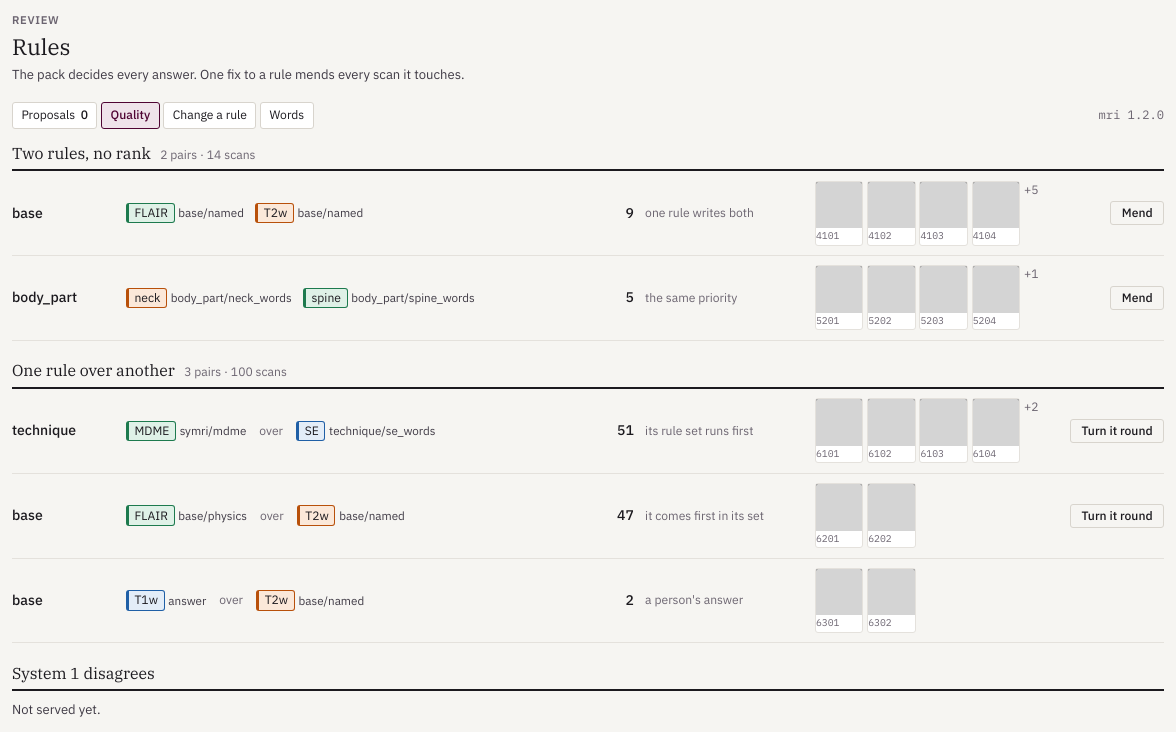
Test case: the quality report › adds the overrides by rule pair, each with the change that would turn it round, and says System 1 is not served yet
This screenshot has width=1176, height=732.
What coordinates should you click on to do the following:
click the button "Turn it round" in the row of "its rule set runs first"
I would click on:
 (1117, 431)
Its box is [1070,419,1164,443].
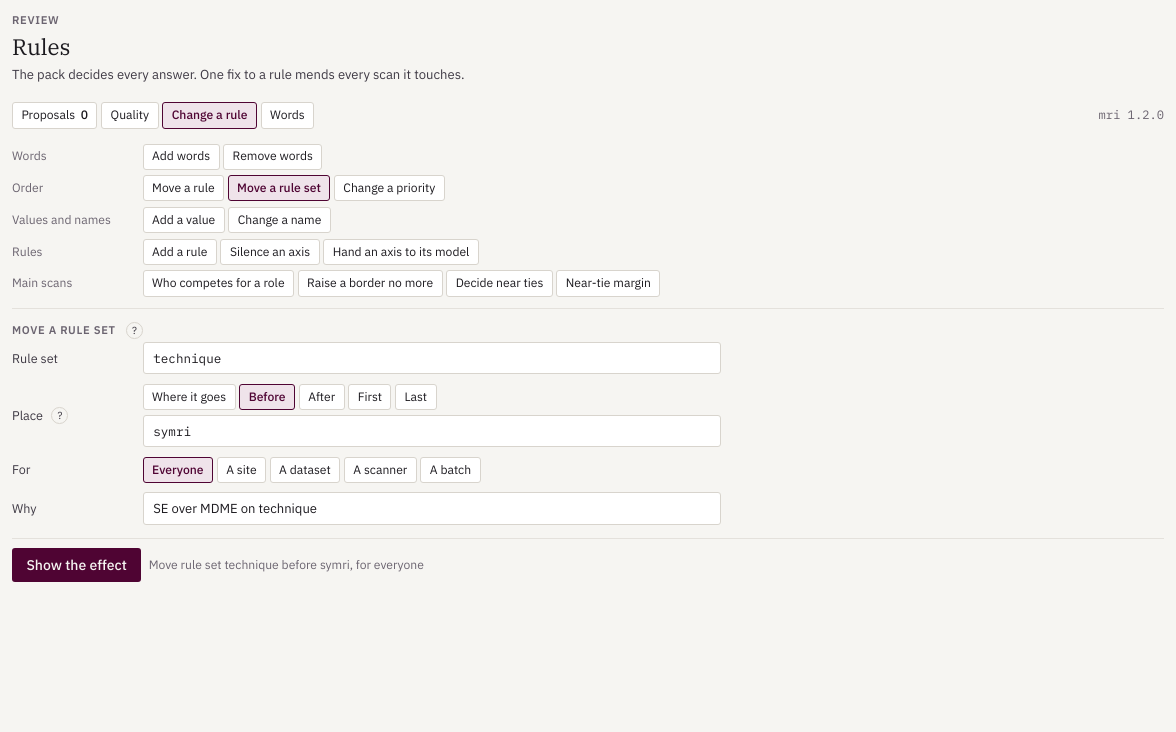
Check: the button with class "opt" reads "Move a rule set", box [228,175,330,201]
Check: the field named "Rule set" holds "technique", box [153,343,711,373]
Check: the field named "Before what" holds "symri", box [153,416,711,446]
